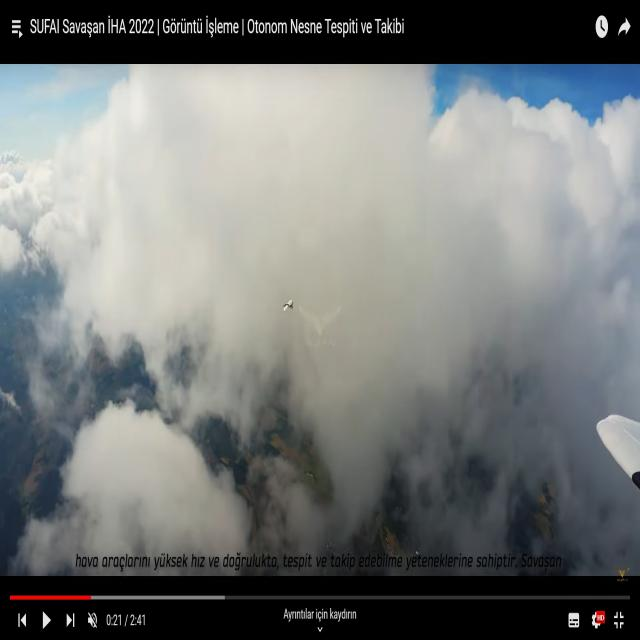iha: (285, 298, 291, 313)
